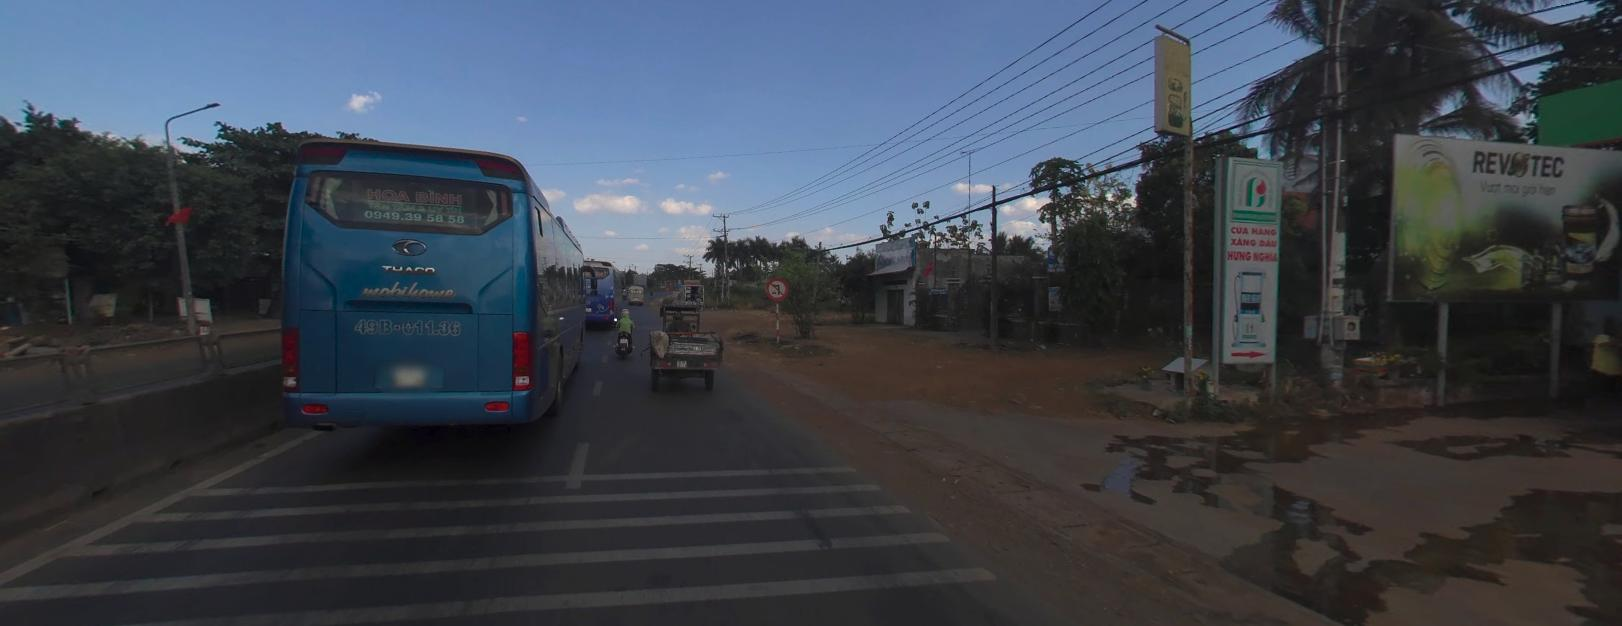Cam re: (765, 275, 787, 298)
